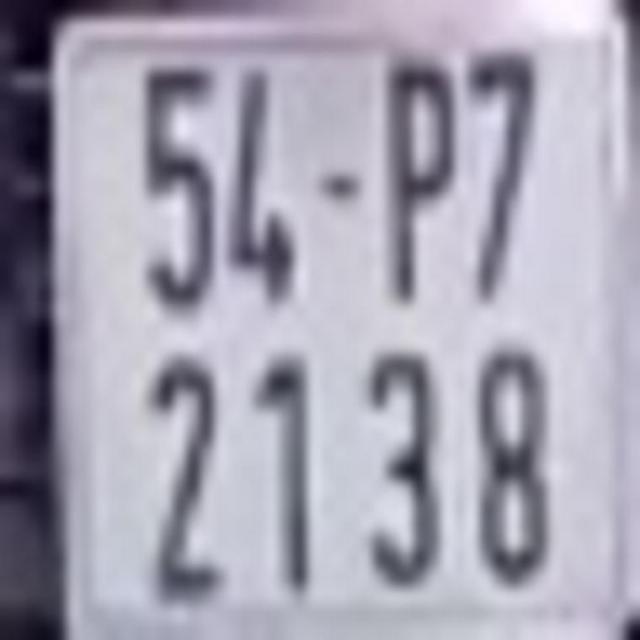1: (258, 355, 316, 576)
2: (139, 358, 219, 582)
3: (370, 352, 440, 570)
4: (230, 62, 311, 314)
5: (142, 60, 222, 311)
7: (466, 57, 524, 305)
8: (485, 350, 558, 572)
P: (386, 63, 449, 314)
